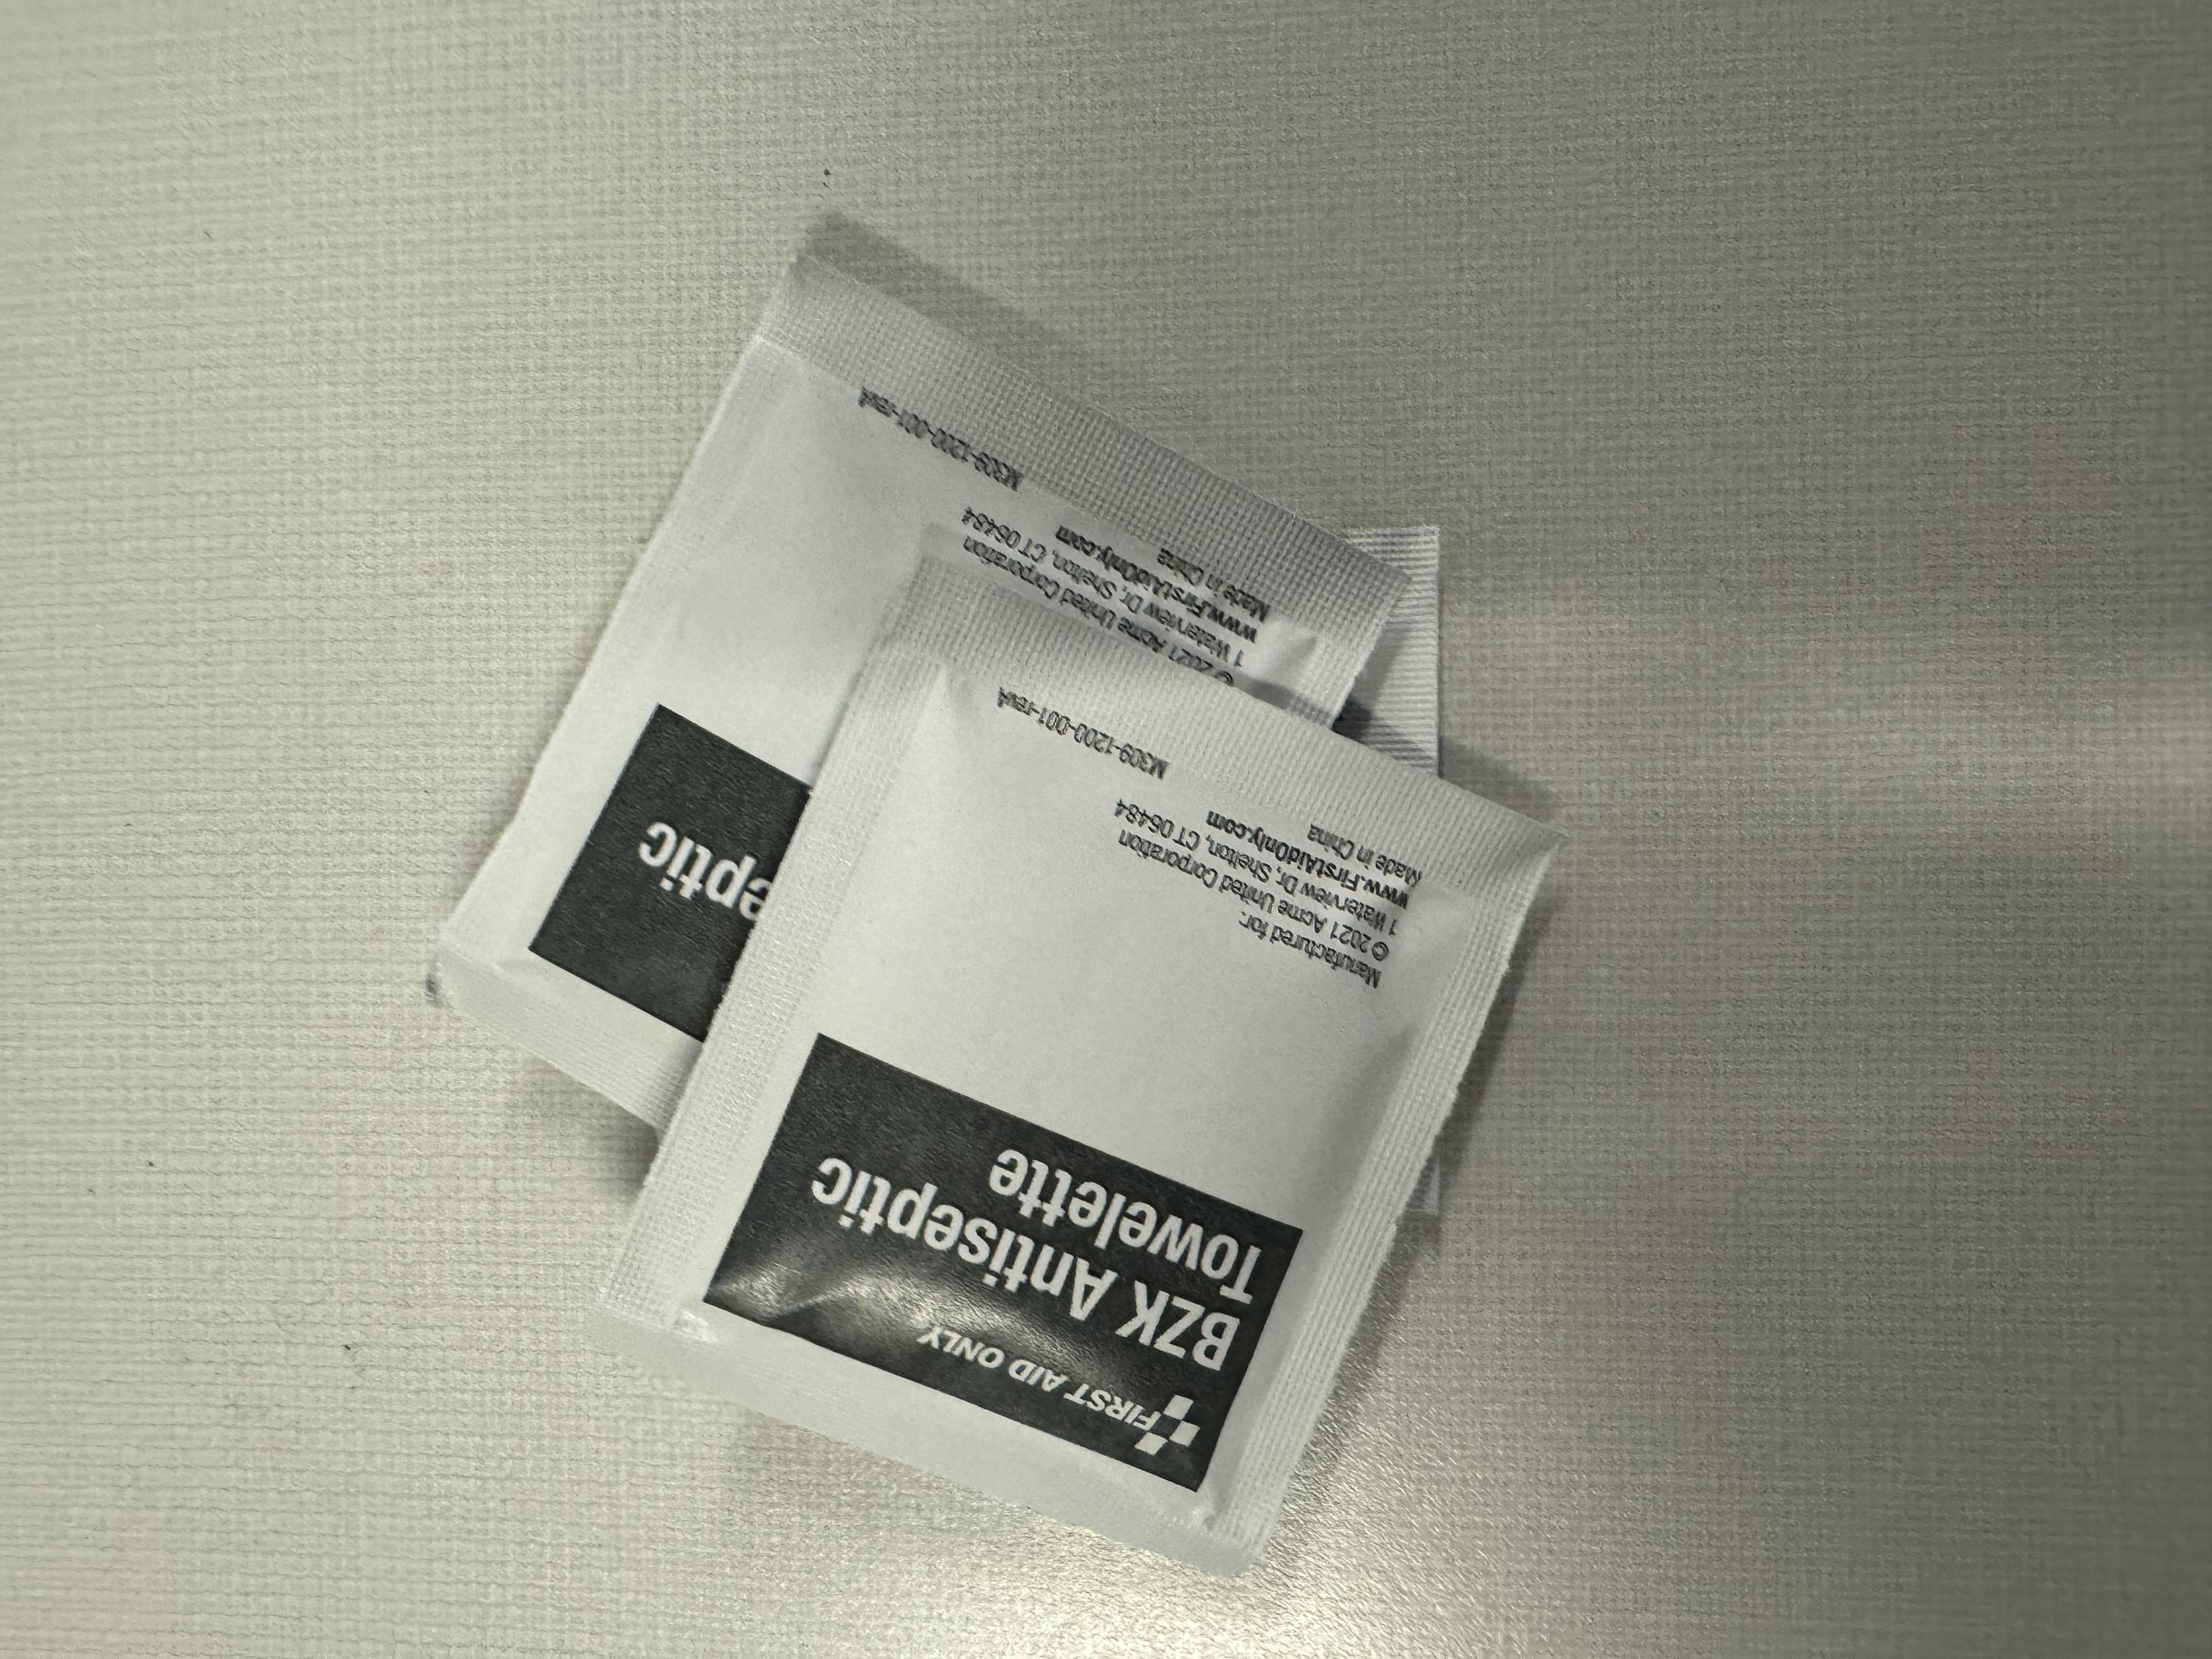antiseptic wipe: (705, 47, 1761, 1516)
